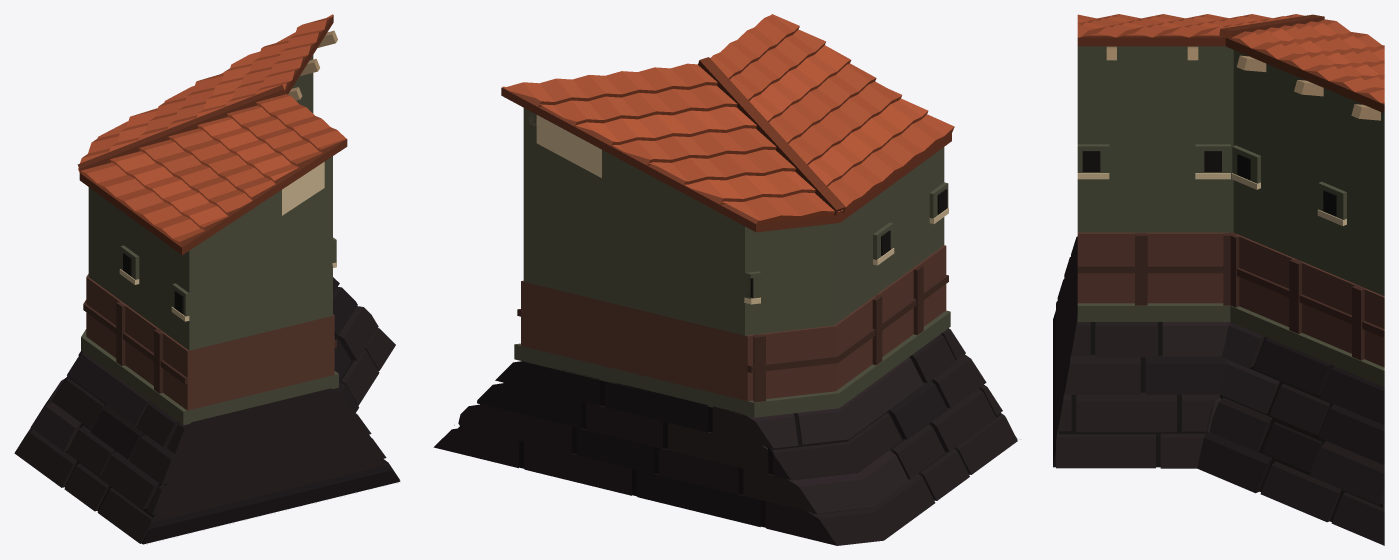
File: VerJoint05.glb
3 views of the same model, side by side, from view 1: azimuth 30°, elevation 25°; view 2: azimuth 150°, elevation 25°; view 3: azimuth 270°, elevation 25° (orthographic). The views are drawn at different scales.
Visible parts, largest first — view 1: VerJoint05_mortar; view 2: VerJoint05_mortar; view 3: VerJoint05_mortar.
Boxes of the visible parts, x1,y1,x2,y2 form: VerJoint05_mortar: [14, 14, 400, 544]; VerJoint05_mortar: [433, 14, 1017, 545]; VerJoint05_mortar: [1053, 14, 1384, 545].
Size of the model in its own units: 6.66 by 5.61 by 4.11.
